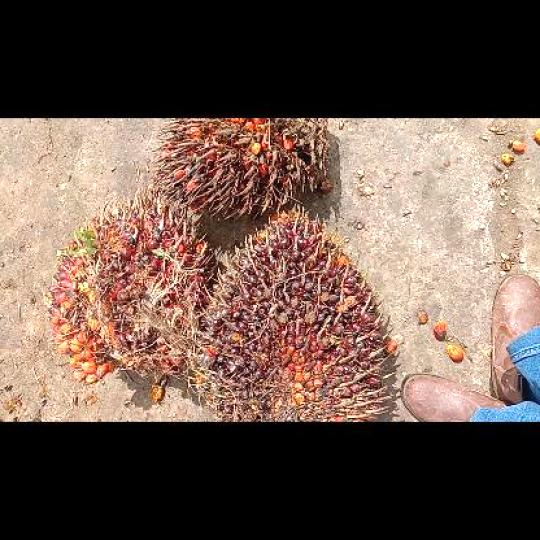kurang masak: (193, 205, 394, 421)
masak: (45, 197, 204, 385)
terlalu masak: (148, 118, 330, 218)
